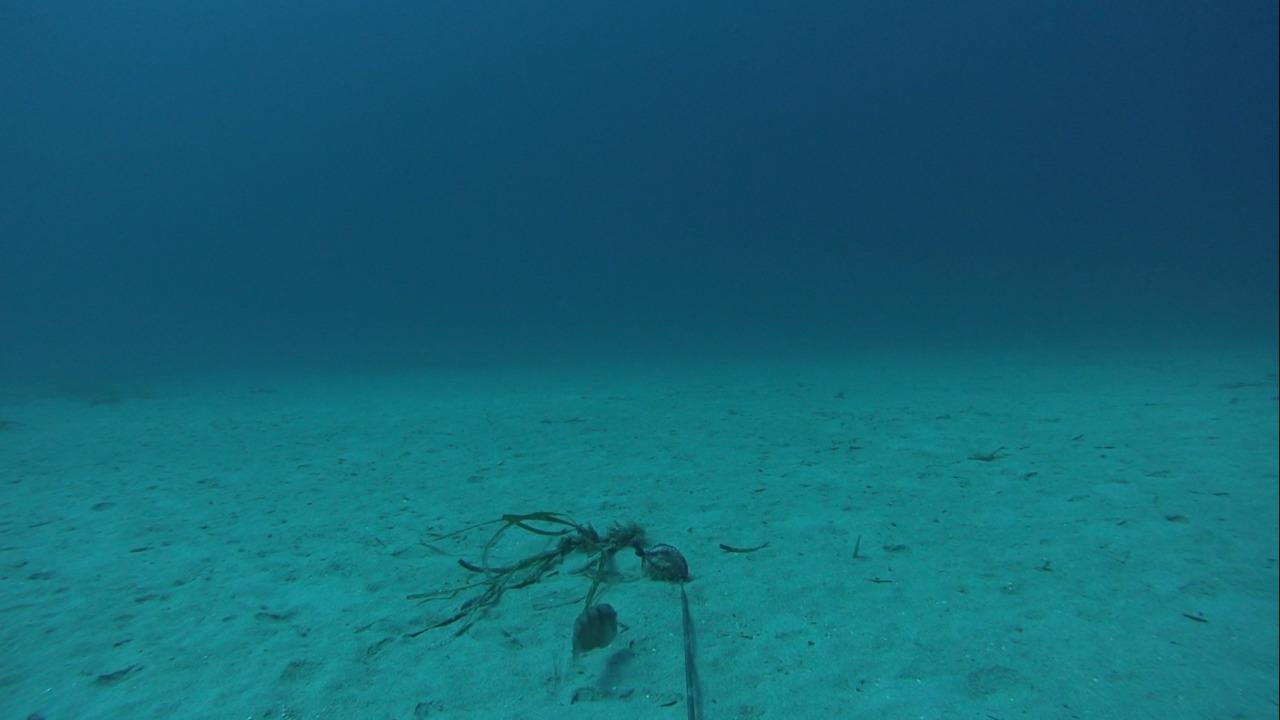raor: (559, 597, 629, 668)
